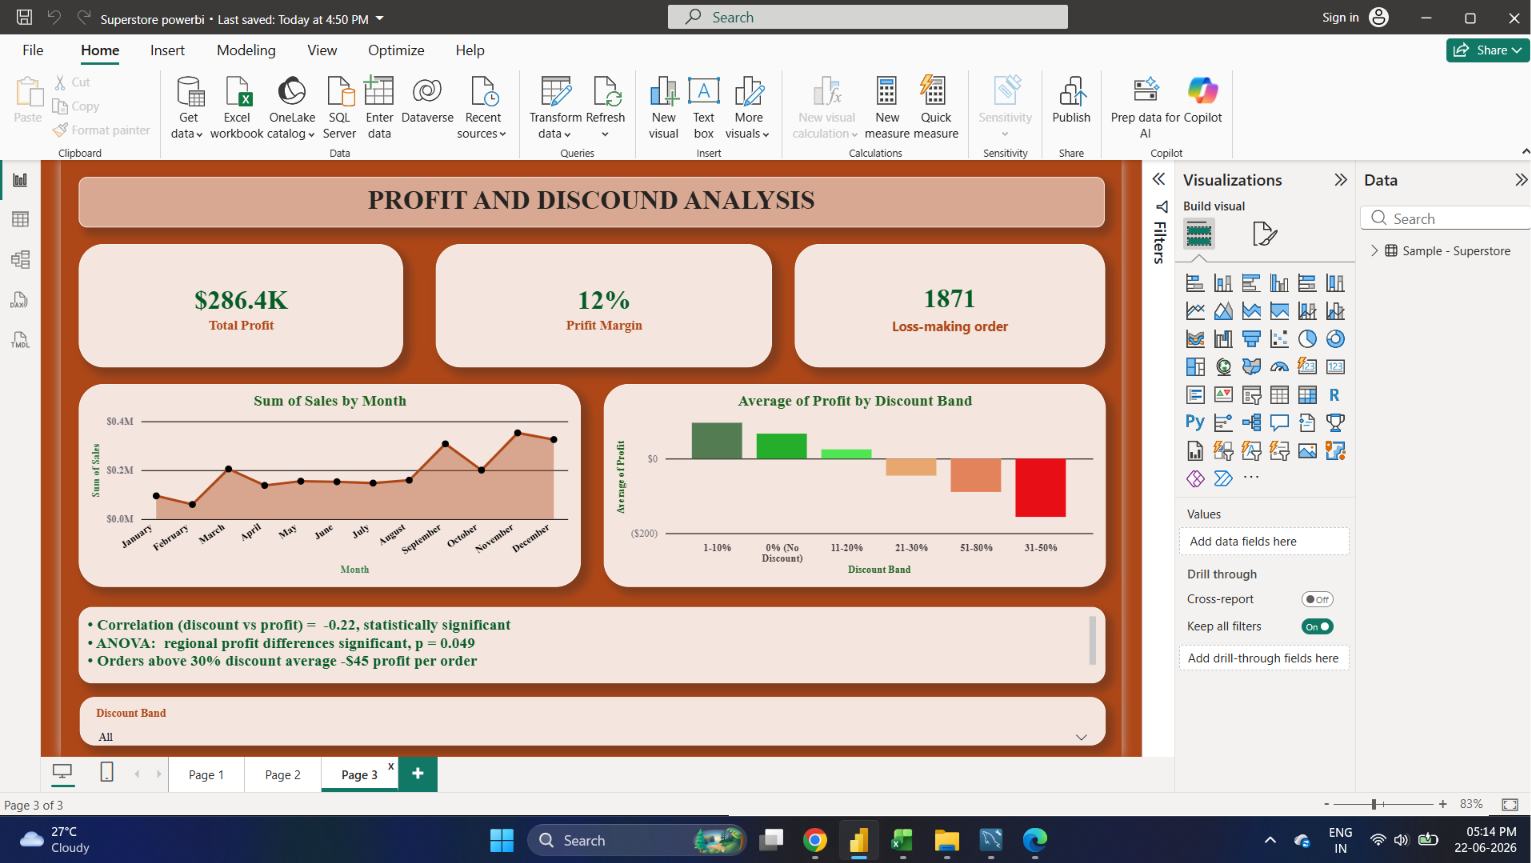

The page's visual inventory and layout, read from the dashboard file:
{"tool":"powerbi","page":{"name":"Page 3","canvas":[1280,720],"ordinal":2},"visuals":[{"type":"textbox","box":[22.2,20.8,1237.5,61.1],"z":0},{"type":"card","fields":{"Values":["Sum(Sample - Superstore.Profit)"]},"box":[22,101.5,391.3,149.2],"z":1000},{"type":"card","fields":{"Values":["Avg(Sample - Superstore.Prifit Margin)"]},"box":[452.4,101.5,406,149.2],"z":2000},{"type":"card","fields":{"Values":["Sample - Superstore.Loss-making order"]},"box":[885.3,101.5,374.2,149.2],"z":3000},{"type":"lineChart","fields":{"Y":["Sum(Sample - Superstore.Sales)"],"Category":["Sample - Superstore.Order Date.Variation.Date Hierarchy.Month"]},"box":[22,270.2,605.3,244.6],"z":4000},{"type":"clusteredColumnChart","fields":{"Y":["Avg(Sample - Superstore.Profit)"],"Category":["Sample - Superstore.Discount Band"]},"box":[655.4,270.2,605.3,244.6],"z":5000},{"type":"textbox","box":[22,539.3,1238.7,91.7],"z":6000},{"type":"slicer","fields":{"Values":["Sample - Superstore.Discount Band"]},"box":[23.2,648.1,1237.5,58.7],"z":7000}]}

Visuals, with their boxes on the page's 1280x720 design canvas (x1, y1, x2, y2). These are canvas units, not pixel positions in the 1531x863 screenshot, which may show the page scaled, cropped or inside an application window:
textbox: <box>22,21,1260,82</box>
card - Sum(Sample - Superstore.Profit): <box>22,102,413,251</box>
card - Avg(Sample - Superstore.Prifit Margin): <box>452,102,858,251</box>
card - Sample - Superstore.Loss-making order: <box>885,102,1260,251</box>
lineChart - Sum(Sample - Superstore.Sales) x Sample - Superstore.Order Date.Variation.Date Hierarchy.Month: <box>22,270,627,515</box>
clusteredColumnChart - Avg(Sample - Superstore.Profit) x Sample - Superstore.Discount Band: <box>655,270,1261,515</box>
textbox: <box>22,539,1261,631</box>
slicer - Sample - Superstore.Discount Band: <box>23,648,1261,707</box>
